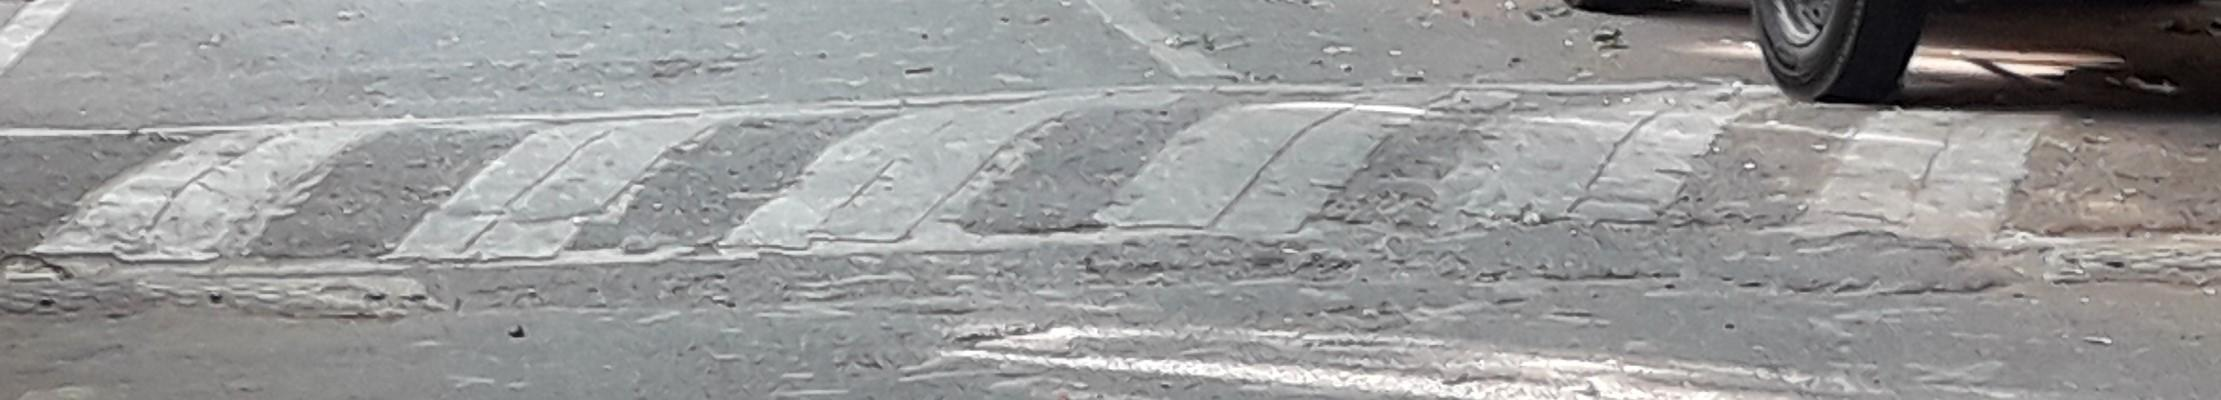speed-bump: (8, 72, 2176, 268)
